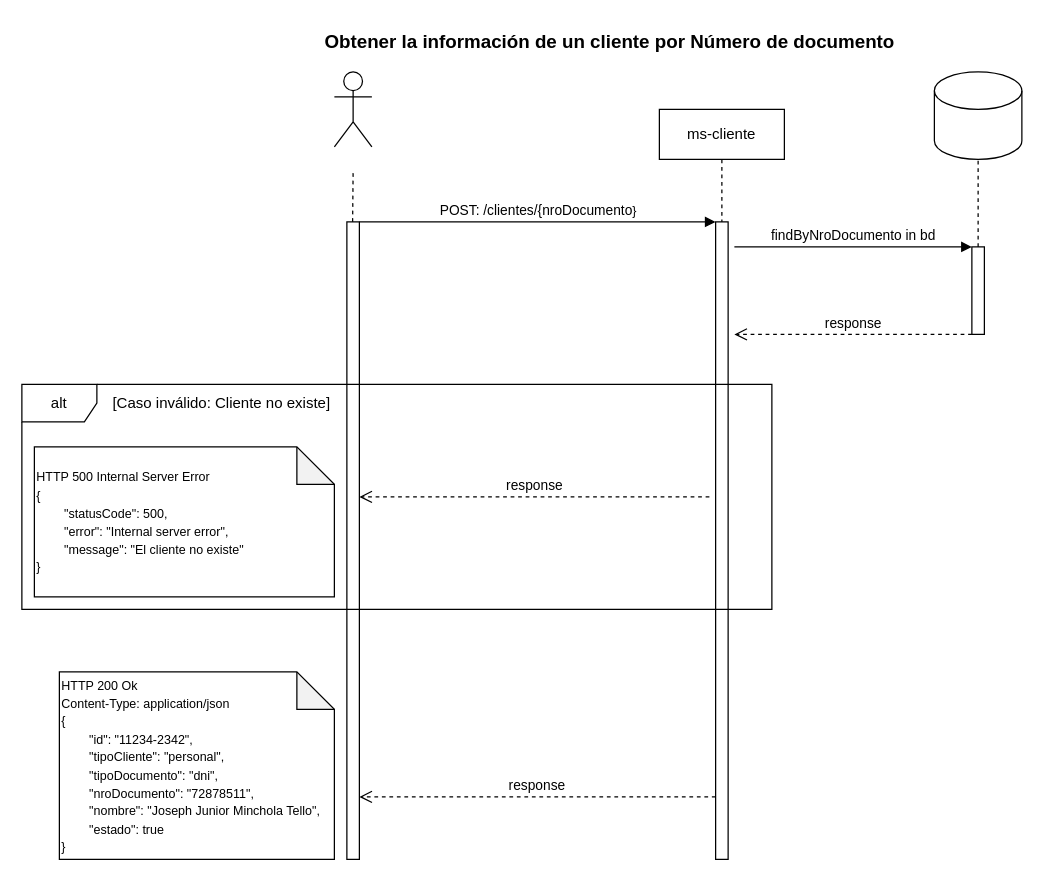
The diagram is 1044 pixels wide and 881 high, and some of its shapes have lost their labels. The centre of each missing label's shape, as x and y in pixels:
Cliente: (352,109)
MongoDb: (977,115)
